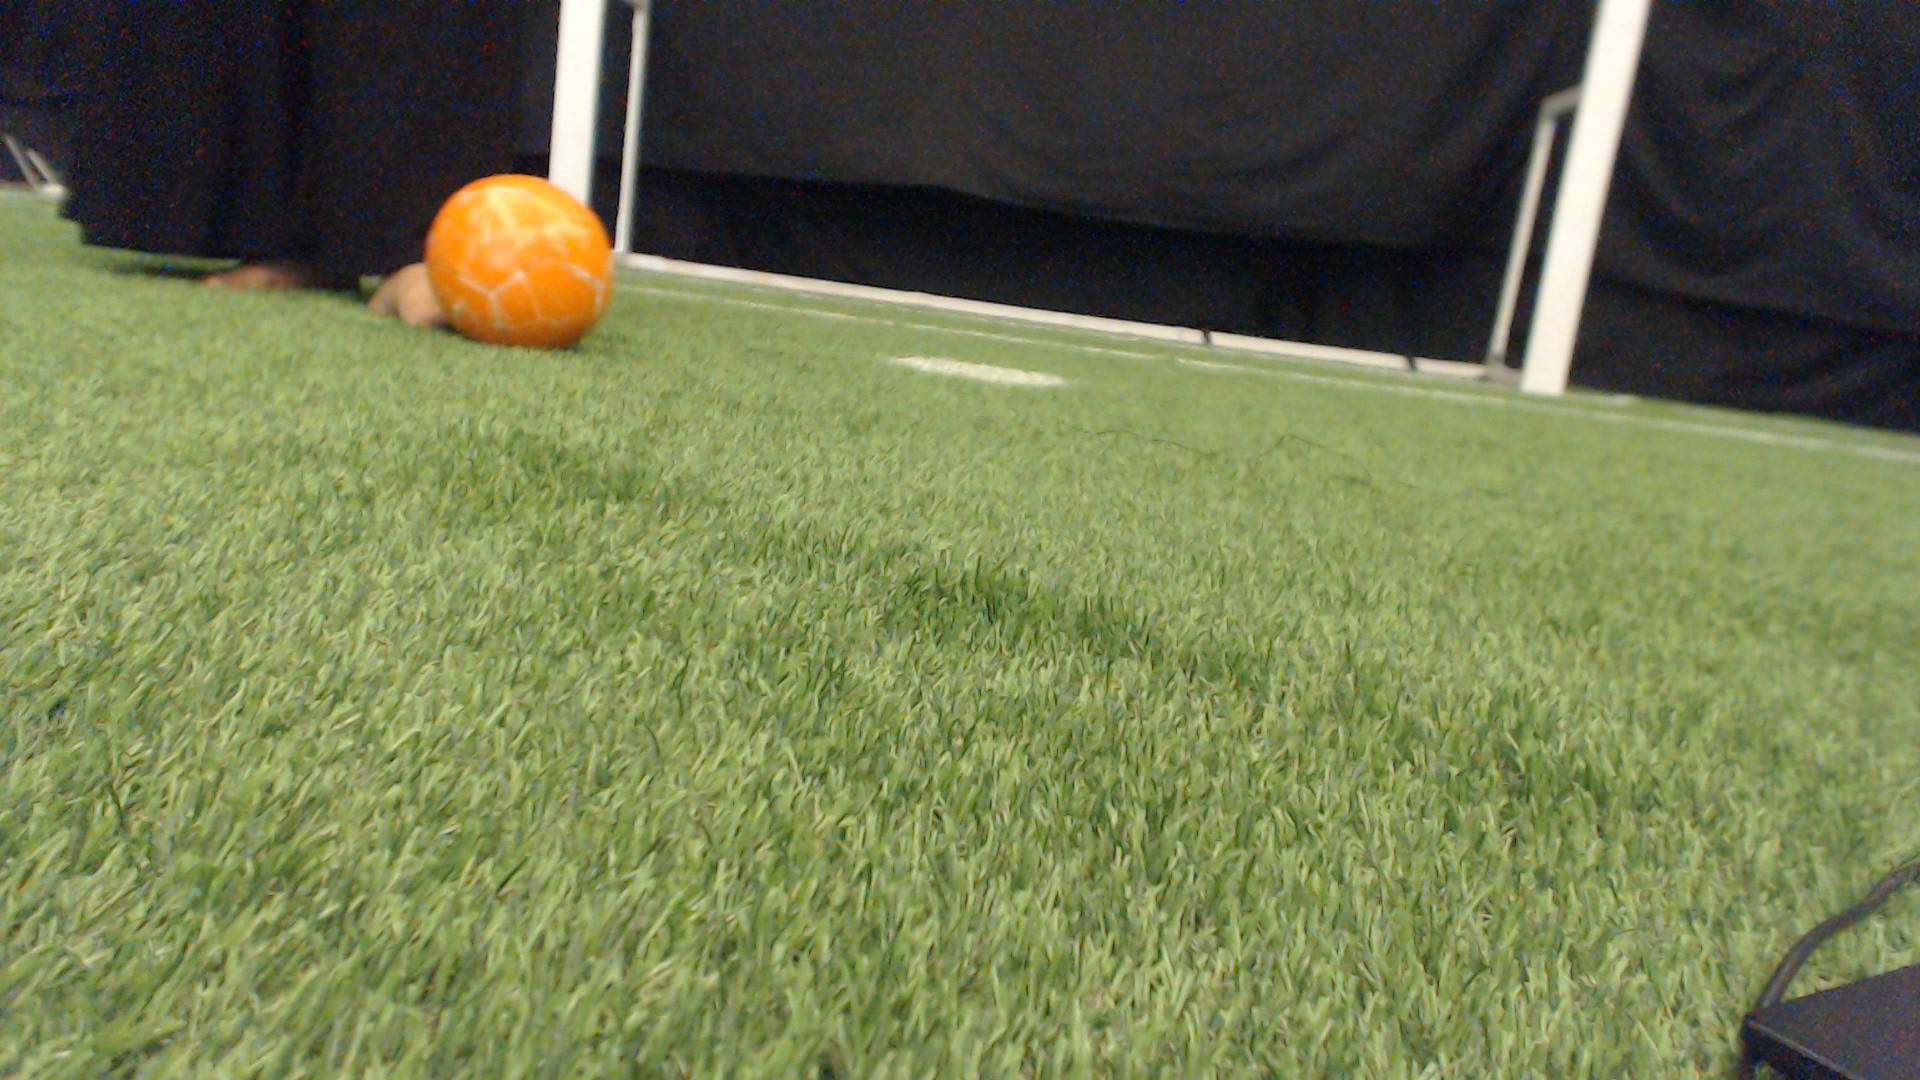bola: (411, 166, 621, 357)
